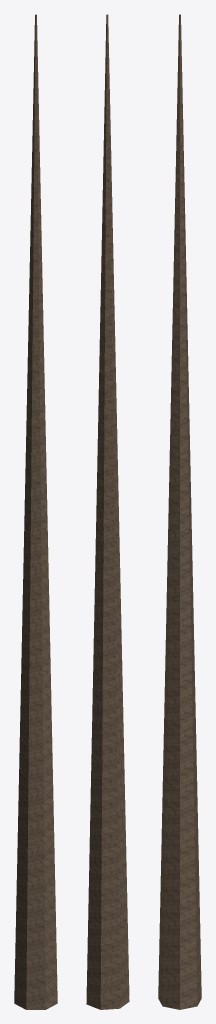
Rendered from pine_far.glb.
3 renders of one model, left to right at view 1: azimuth 90°, elevation 25°; view 2: azimuth 150°, elevation 25°; view 3: azimuth 270°, elevation 25°, orthographic.
Parts seen in each view (by area): view 1: VIS_Bark; view 2: VIS_Bark; view 3: VIS_Bark.
Part boxes in pixels (x1=…): VIS_Bark: x1=14, y1=14, x2=57, y2=1009; VIS_Bark: x1=86, y1=14, x2=129, y2=1009; VIS_Bark: x1=158, y1=14, x2=201, y2=1009.
Size of what is drawn, in the model's own units: 0.6996 by 17.94 by 0.7175.
Materials: 1 (1 with a texture image).
